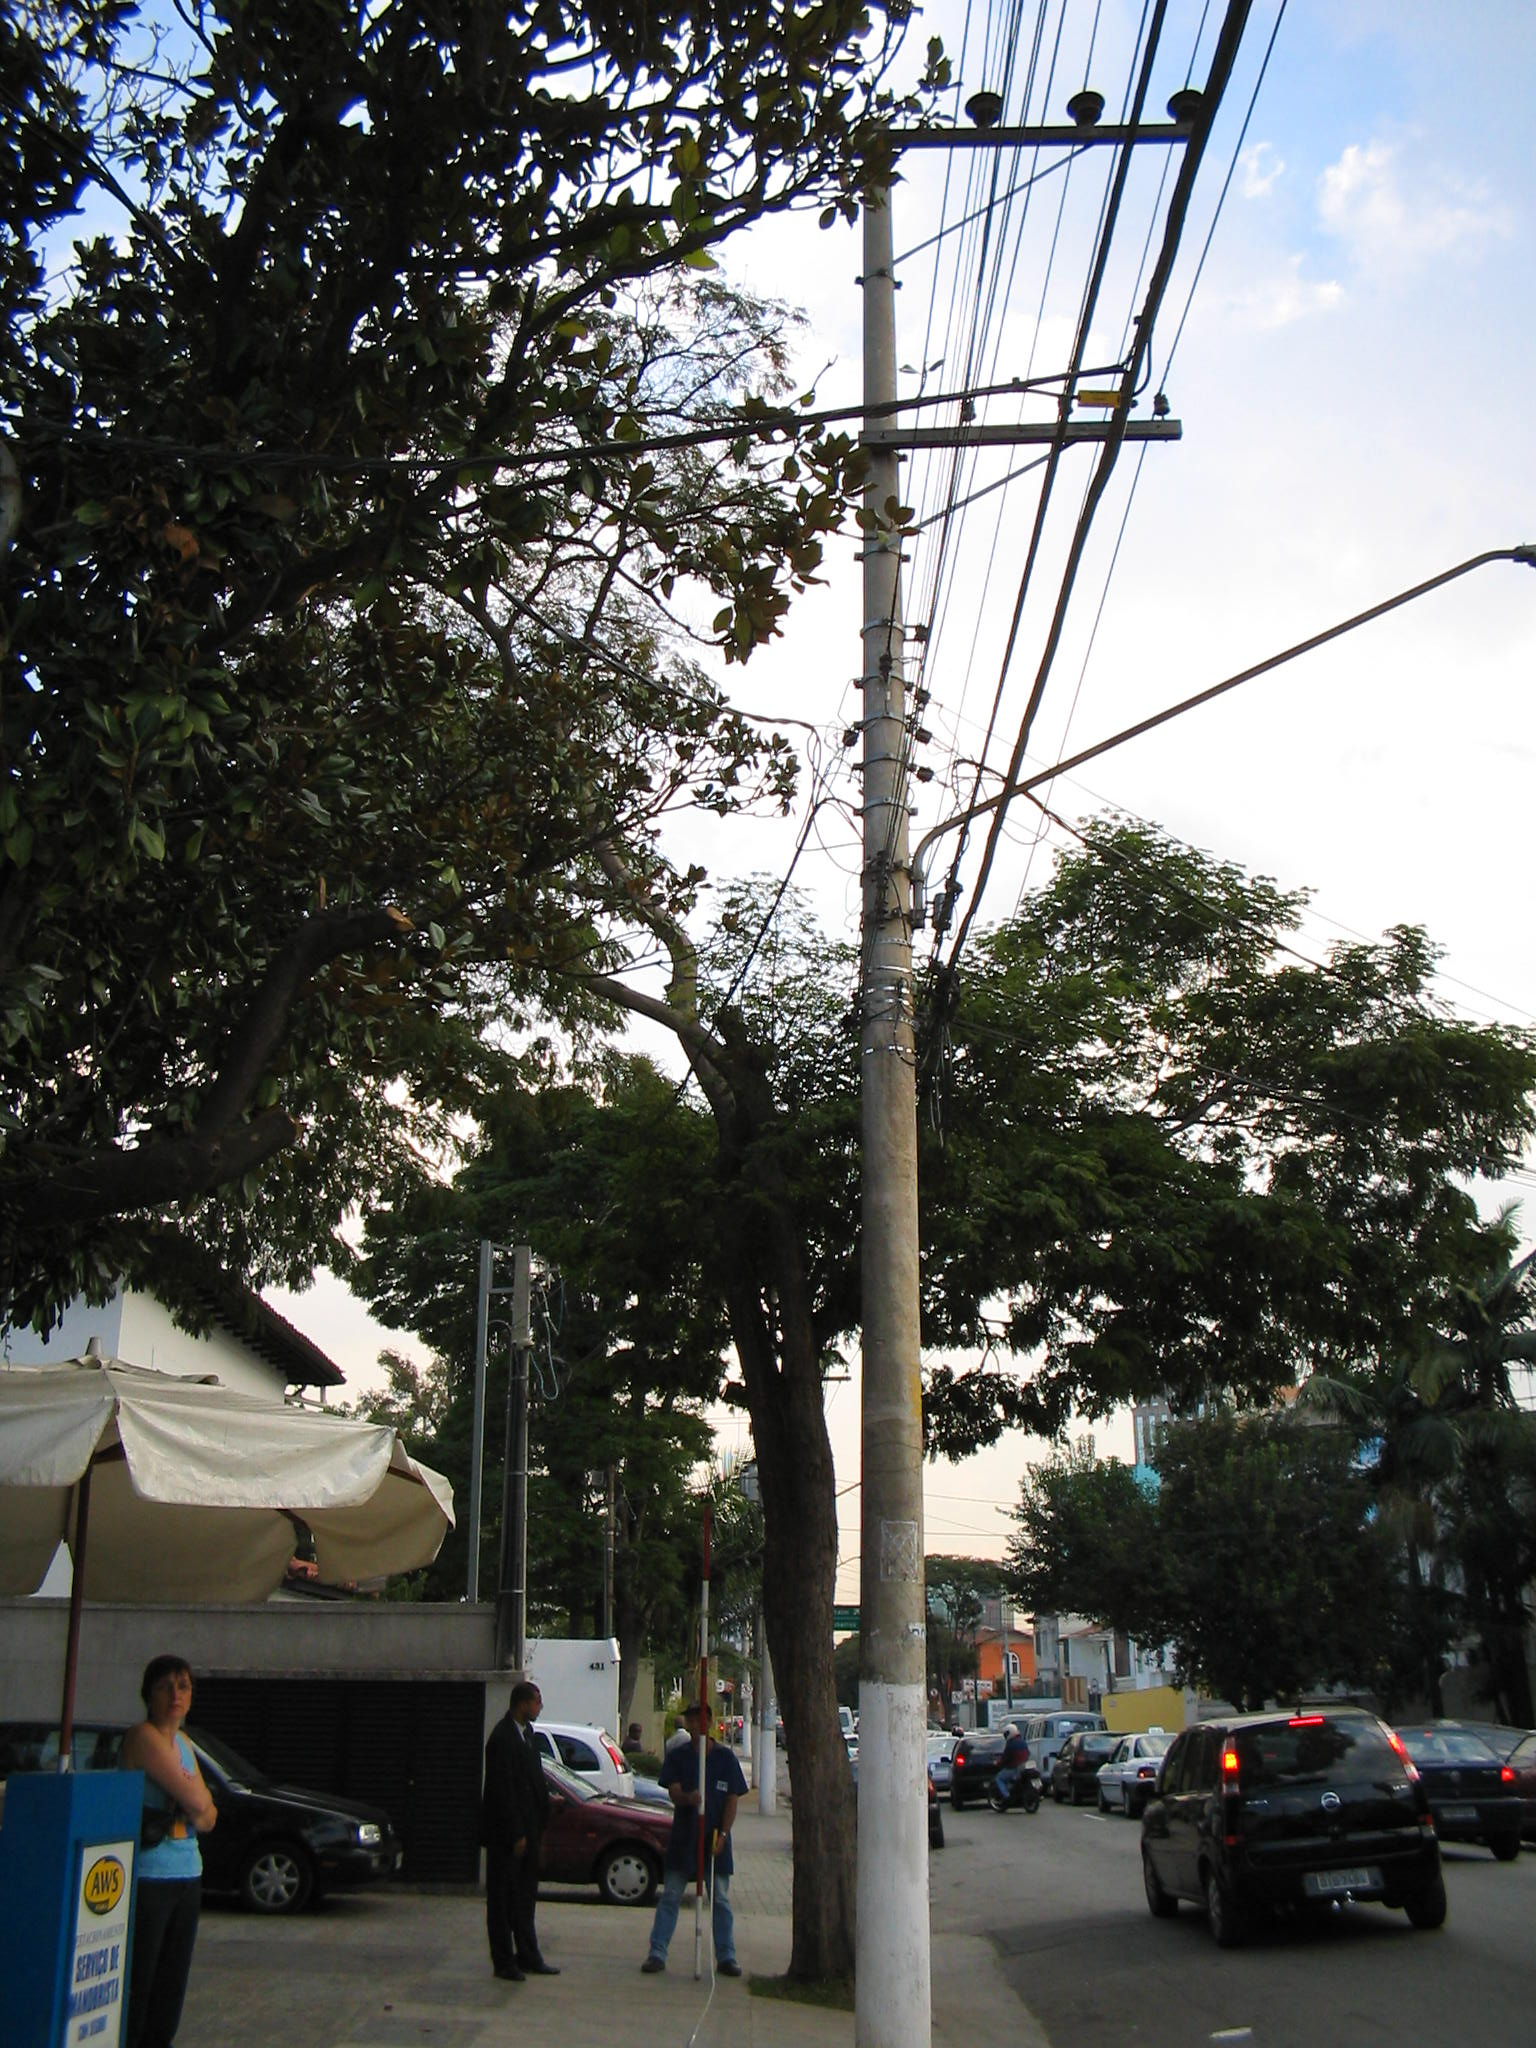crown: (321, 806, 1525, 1461)
stem: (734, 1519, 879, 1988)
stick: (676, 1488, 724, 1985)
tree: (307, 801, 1533, 1990)
